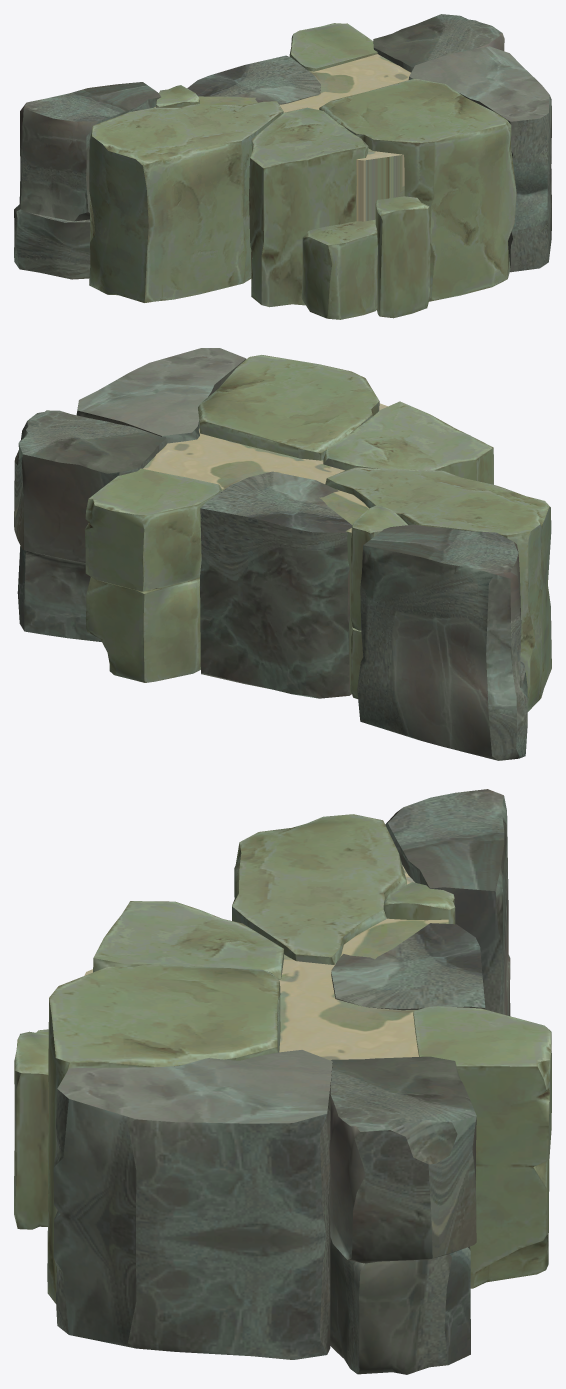
The model's file is Ruins_Wall_DMG_Top_Cnr_L_B.fbx.
The picture shows the model from 3 angles, top to bottom: view 1: azimuth 30°, elevation 25°; view 2: azimuth 150°, elevation 25°; view 3: azimuth 270°, elevation 25°; orthographic projection. The views are drawn at different scales.
Parts seen in each view (by area): view 1: Ruins_Wall_DMG_Top_Cnr_L_B; view 2: Ruins_Wall_DMG_Top_Cnr_L_B; view 3: Ruins_Wall_DMG_Top_Cnr_L_B.
Part boxes in pixels (x1=…): Ruins_Wall_DMG_Top_Cnr_L_B: x1=14, y1=14, x2=551, y2=319; Ruins_Wall_DMG_Top_Cnr_L_B: x1=14, y1=348, x2=551, y2=760; Ruins_Wall_DMG_Top_Cnr_L_B: x1=14, y1=789, x2=551, y2=1374.
Bounding box in the file's own units: 870 × 297 × 568.
